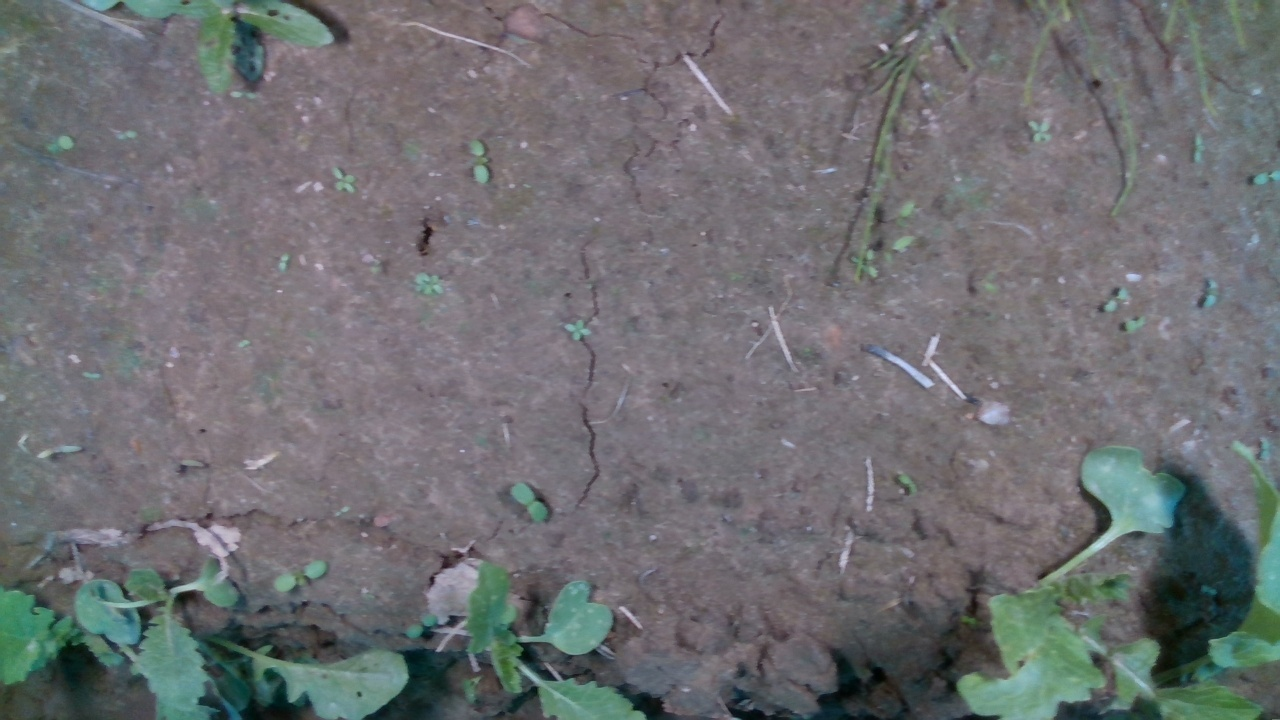weed: (270, 557, 328, 593), (506, 481, 551, 527), (465, 136, 490, 187), (414, 270, 447, 299), (330, 163, 358, 197), (561, 316, 592, 343), (1025, 117, 1053, 146), (1101, 286, 1130, 314), (1199, 277, 1222, 312), (44, 133, 74, 154), (1123, 313, 1149, 333), (277, 250, 289, 275)
